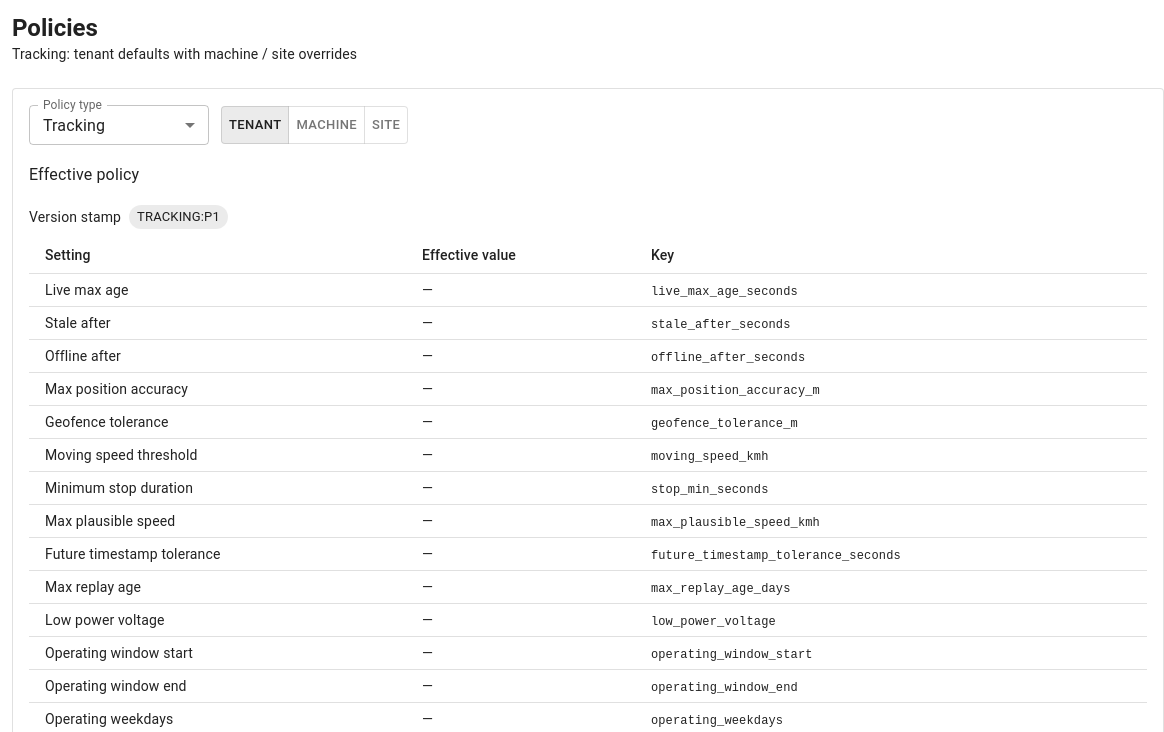
Revenue checks across the console › renders the revenue checks policy labels
The width and height of the screenshot is (1164, 732).
Click the dropdown named "Policy type" at (74, 125), box x1=43 y1=116 x2=105 y2=134
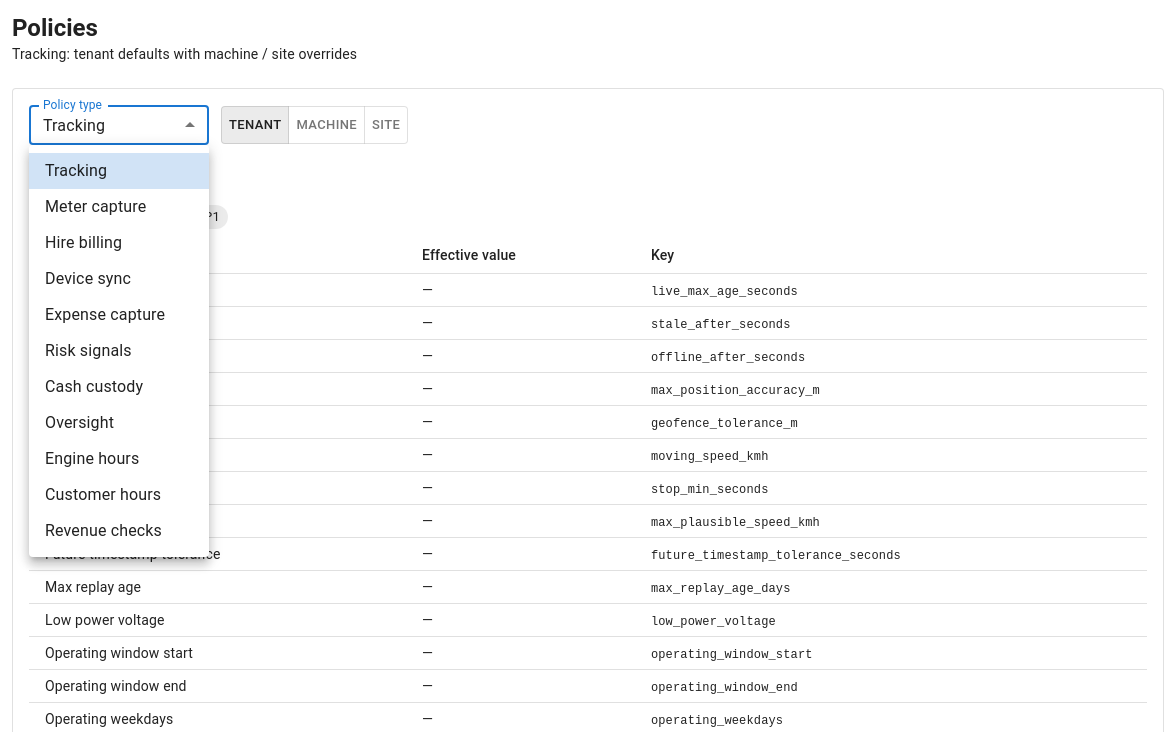
Click the option "Revenue checks" at (104, 530), box x1=45 y1=521 x2=162 y2=540
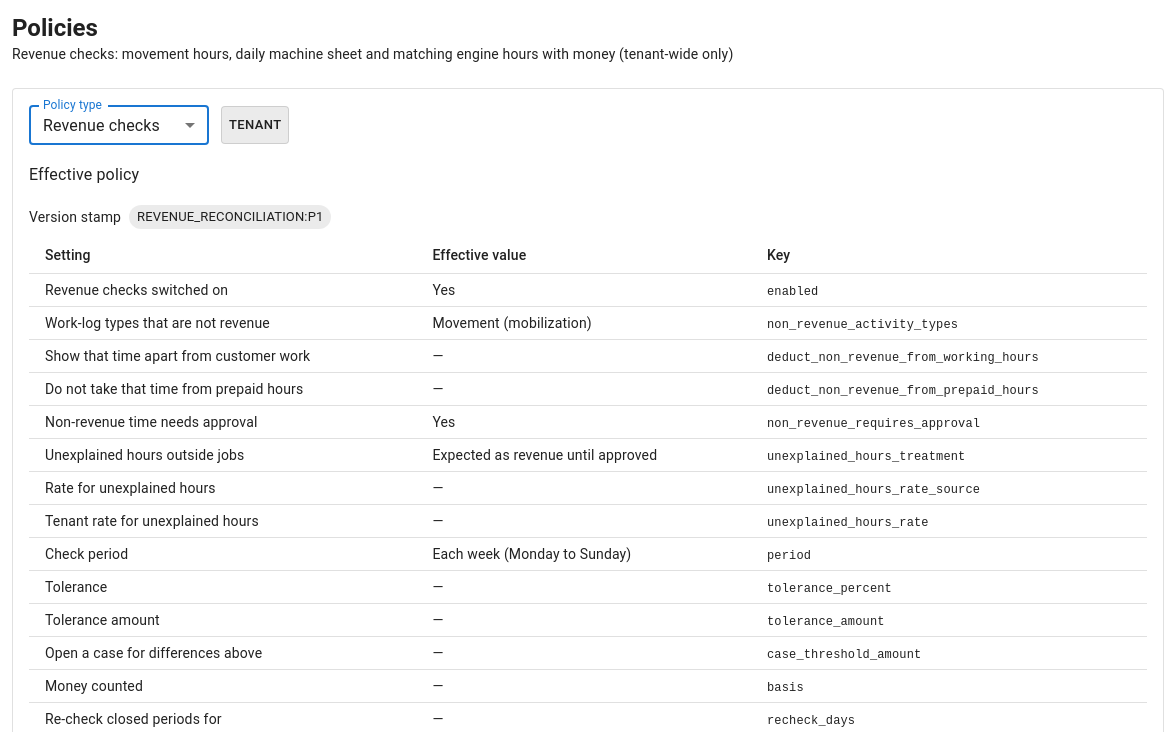
Now the text "Revenue checks switched on" is shown, box x1=29 y1=274 x2=416 y2=306
Now the text "Work-log types that are not revenue" is shown, box x1=29 y1=306 x2=416 y2=340
Now the text "Movement (mobilization)" is shown, box x1=416 y1=306 x2=751 y2=340
